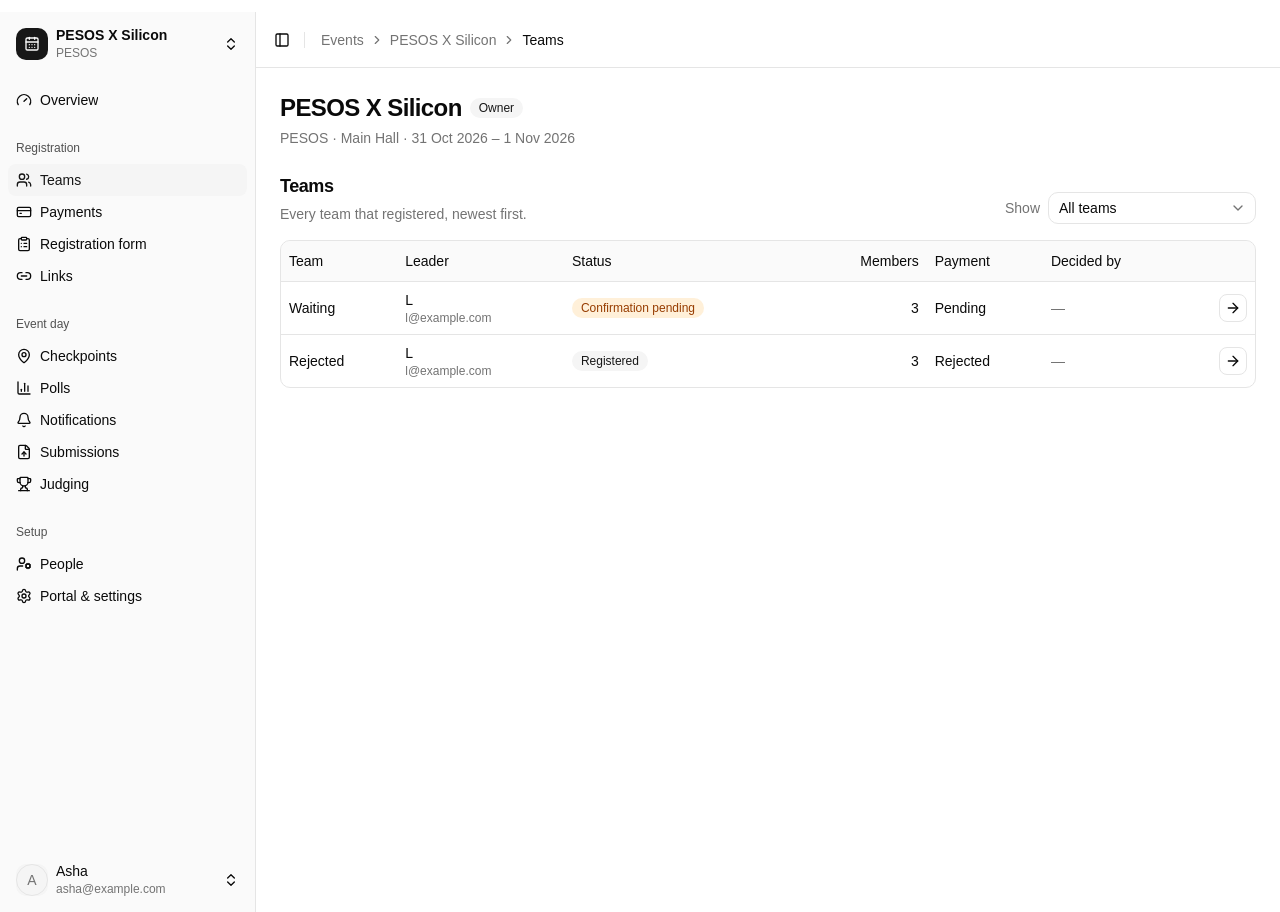
Scenario: answers on admin team pages › teams list can filter by "Confirmation pending"
This screenshot has width=1280, height=912.
Expected: the link "Rejected" is shown, [289,352,344,368]
Select "Confirmation pending" in the dropdown labelled "Show" at (1152, 208), box [1048,192,1256,224]
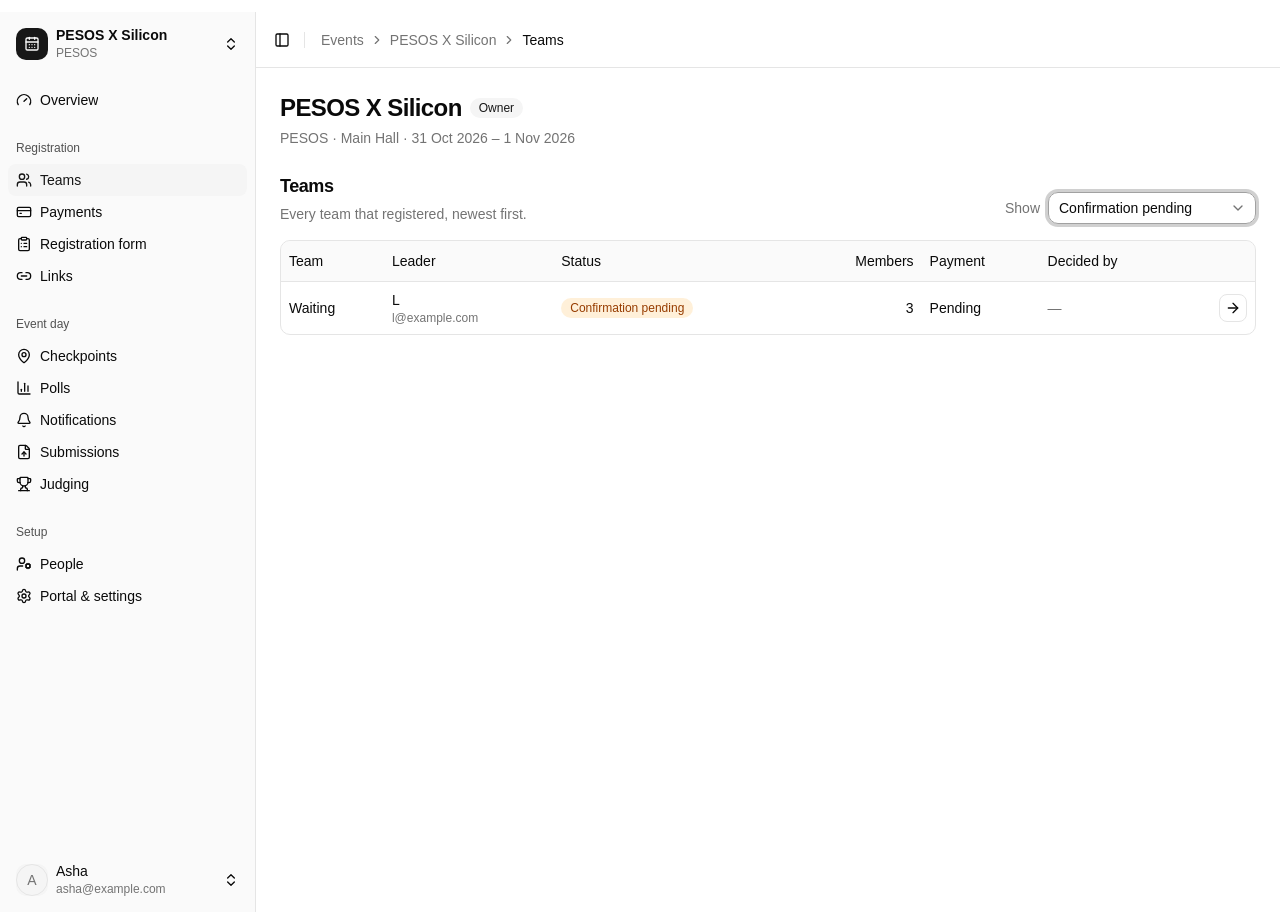
Expected: the link "Waiting" is shown, [289,300,335,316]
Expected: the link "Rejected" is gone
